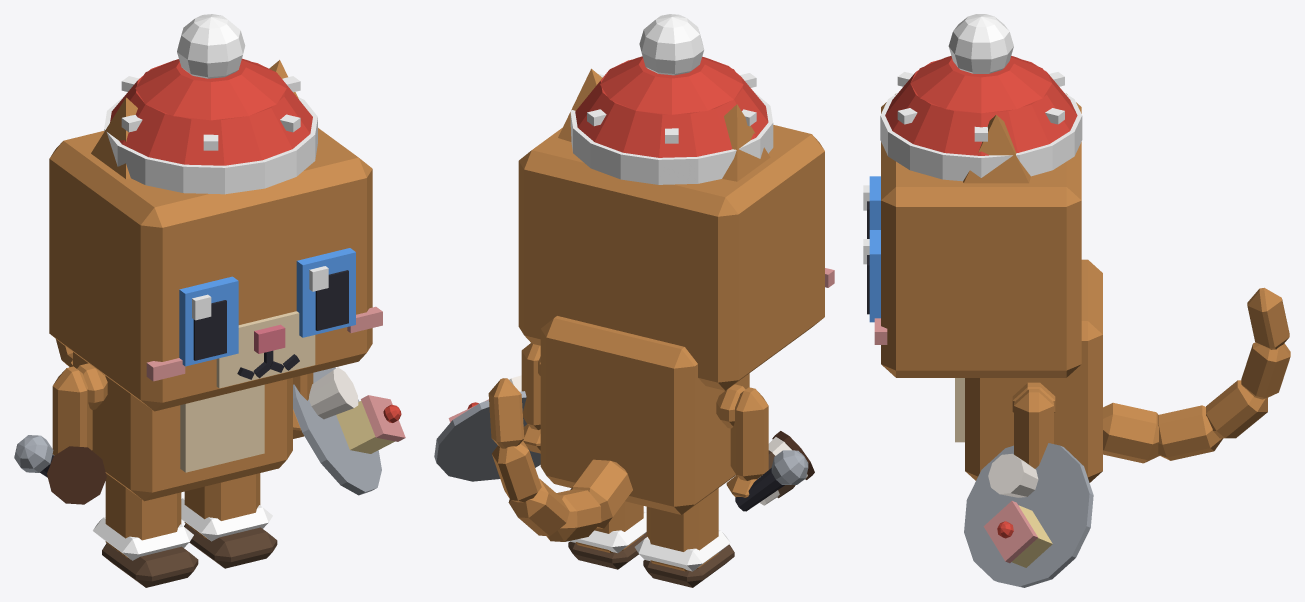
File: CatCafe_Cat_SnowBoots_Work.glb
3 views of the same model, side by side, from view 1: azimuth 30°, elevation 25°; view 2: azimuth 150°, elevation 25°; view 3: azimuth 270°, elevation 25° (orthographic). The views are drawn at different scales.
Visible parts, largest first — view 1: CatCafe_Cat_SnowBoots_Work_Head, CatCafe_Cat_SnowBoots_Work_Prop, CatCafe_Cat_SnowBoots_Work_Body, CatCafe_Cat_SnowBoots_Work_Held_Waiter, CatCafe_Cat_SnowBoots_Work_LegB2, CatCafe_Cat_SnowBoots_Work_LegB1, CatCafe_Cat_SnowBoots_Work_Eye2, CatCafe_Cat_SnowBoots_Work_Eye1, CatCafe_Cat_SnowBoots_Work_LegF2, CatCafe_Cat_SnowBoots_Work_Held_Barista, CatCafe_Cat_SnowBoots_Work_EarR, CatCafe_Cat_SnowBoots_Work_Held_Entertainer (+1 smaller); view 2: CatCafe_Cat_SnowBoots_Work_Head, CatCafe_Cat_SnowBoots_Work_Body, CatCafe_Cat_SnowBoots_Work_Prop, CatCafe_Cat_SnowBoots_Work_Tail, CatCafe_Cat_SnowBoots_Work_LegB2, CatCafe_Cat_SnowBoots_Work_Held_Waiter, CatCafe_Cat_SnowBoots_Work_LegF2, CatCafe_Cat_SnowBoots_Work_LegB1, CatCafe_Cat_SnowBoots_Work_Held_Entertainer, CatCafe_Cat_SnowBoots_Work_LegF1, CatCafe_Cat_SnowBoots_Work_EarR, CatCafe_Cat_SnowBoots_Work_Held_Barista (+1 smaller); view 3: CatCafe_Cat_SnowBoots_Work_Head, CatCafe_Cat_SnowBoots_Work_Prop, CatCafe_Cat_SnowBoots_Work_Held_Waiter, CatCafe_Cat_SnowBoots_Work_Body, CatCafe_Cat_SnowBoots_Work_Tail, CatCafe_Cat_SnowBoots_Work_LegF1, CatCafe_Cat_SnowBoots_Work_EarL, CatCafe_Cat_SnowBoots_Work_Eye1, CatCafe_Cat_SnowBoots_Work_Eye2.
Boxes of the visible parts, <box> form: CatCafe_Cat_SnowBoots_Work_Head: <box>49,128,382,411</box>; CatCafe_Cat_SnowBoots_Work_Prop: <box>104,14,317,194</box>; CatCafe_Cat_SnowBoots_Work_Body: <box>73,352,292,501</box>; CatCafe_Cat_SnowBoots_Work_Held_Waiter: <box>293,367,405,495</box>; CatCafe_Cat_SnowBoots_Work_LegB2: <box>93,473,198,587</box>; CatCafe_Cat_SnowBoots_Work_LegB1: <box>181,473,277,568</box>; CatCafe_Cat_SnowBoots_Work_Eye2: <box>179,276,238,366</box>; CatCafe_Cat_SnowBoots_Work_Eye1: <box>296,248,355,337</box>; CatCafe_Cat_SnowBoots_Work_LegF2: <box>52,366,92,455</box>; CatCafe_Cat_SnowBoots_Work_Held_Barista: <box>47,446,106,504</box>; CatCafe_Cat_SnowBoots_Work_EarR: <box>91,97,137,178</box>; CatCafe_Cat_SnowBoots_Work_Held_Entertainer: <box>14,435,53,477</box>; CatCafe_Cat_SnowBoots_Work_Head: <box>518,125,834,390</box>; CatCafe_Cat_SnowBoots_Work_Body: <box>538,316,749,514</box>; CatCafe_Cat_SnowBoots_Work_Prop: <box>570,14,773,184</box>; CatCafe_Cat_SnowBoots_Work_Tail: <box>488,378,632,541</box>; CatCafe_Cat_SnowBoots_Work_LegB2: <box>634,488,734,587</box>; CatCafe_Cat_SnowBoots_Work_Held_Waiter: <box>434,375,540,481</box>; CatCafe_Cat_SnowBoots_Work_LegF2: <box>726,387,768,497</box>; CatCafe_Cat_SnowBoots_Work_LegB1: <box>568,501,646,569</box>; CatCafe_Cat_SnowBoots_Work_Held_Entertainer: <box>735,450,808,511</box>; CatCafe_Cat_SnowBoots_Work_LegF1: <box>521,343,540,453</box>; CatCafe_Cat_SnowBoots_Work_EarR: <box>722,104,770,181</box>; CatCafe_Cat_SnowBoots_Work_Held_Barista: <box>758,431,814,505</box>; CatCafe_Cat_SnowBoots_Work_Head: <box>874,93,1081,377</box>; CatCafe_Cat_SnowBoots_Work_Prop: <box>880,14,1082,181</box>; CatCafe_Cat_SnowBoots_Work_Held_Waiter: <box>964,443,1093,587</box>; CatCafe_Cat_SnowBoots_Work_Body: <box>955,259,1102,482</box>; CatCafe_Cat_SnowBoots_Work_Tail: <box>1103,287,1290,463</box>; CatCafe_Cat_SnowBoots_Work_LegF1: <box>1014,389,1053,468</box>; CatCafe_Cat_SnowBoots_Work_EarL: <box>963,115,1030,183</box>; CatCafe_Cat_SnowBoots_Work_Eye1: <box>863,230,880,322</box>; CatCafe_Cat_SnowBoots_Work_Eye2: <box>863,176,880,238</box>.
Bounding box in the file's own units: 1.53 × 2.19 × 1.62.
1 material, 1 textured.
